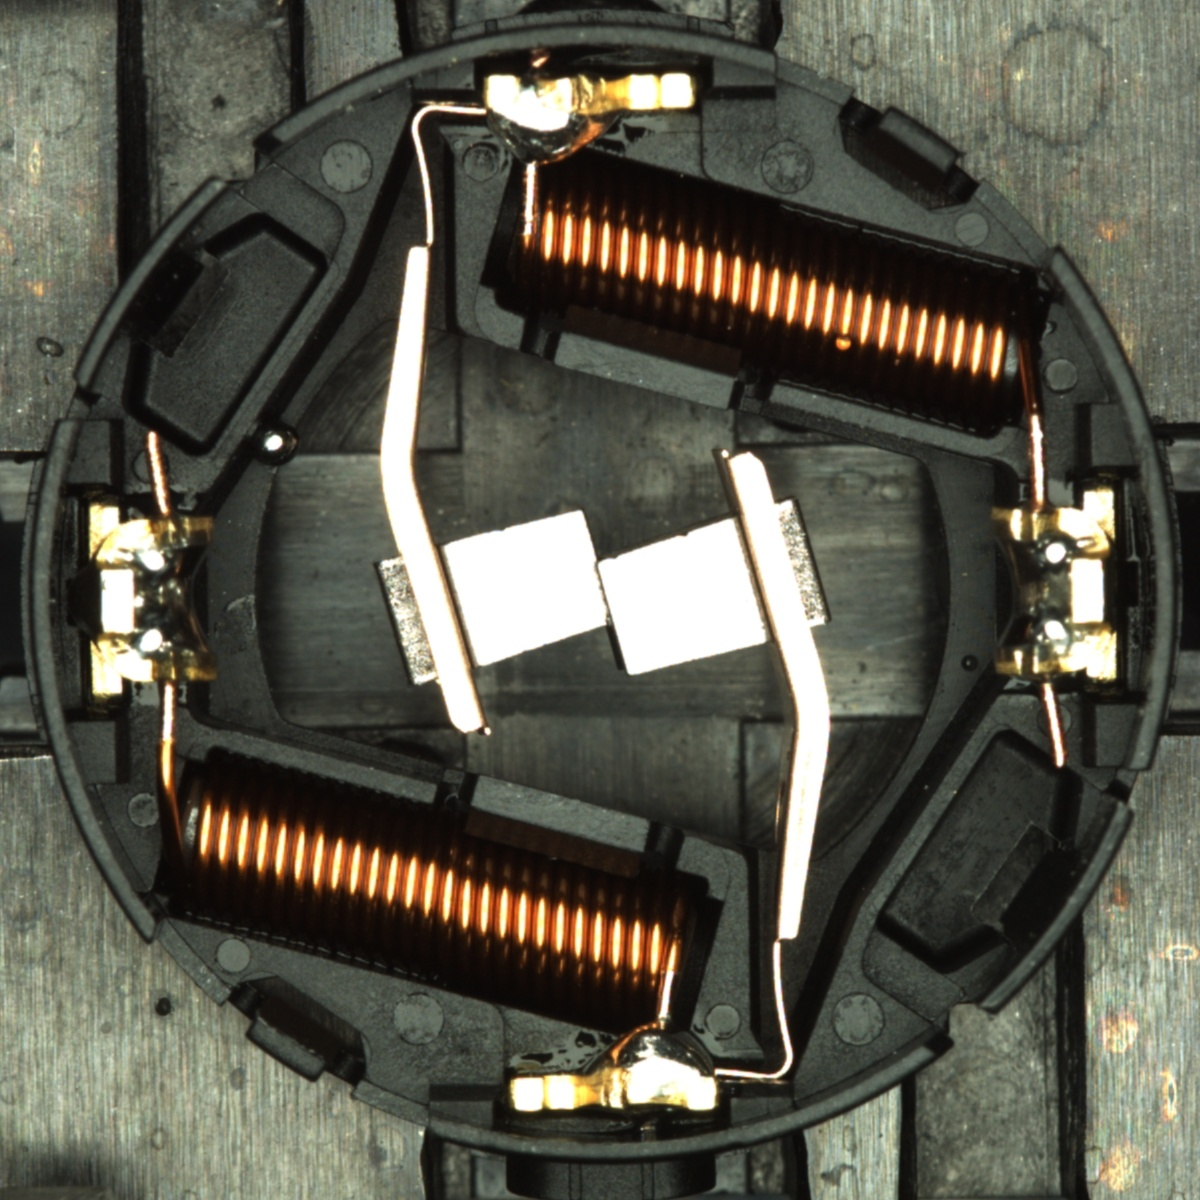1: (255, 31, 484, 255), (713, 929, 942, 1153)
2: (713, 31, 942, 255), (255, 929, 484, 1153)
3: (25, 255, 255, 480), (942, 704, 1173, 929)
4: (713, 704, 942, 929)
5: (484, 143, 713, 368), (484, 816, 713, 1041)
6: (713, 255, 942, 480), (255, 704, 484, 929)
7: (942, 255, 1173, 480), (25, 704, 255, 929)
cacbon: (395, 498, 803, 686)
chau_dien: (984, 487, 1124, 688), (81, 499, 221, 699)
hat_chi: (251, 419, 299, 467)
tay_choi: (481, 69, 700, 169), (508, 1018, 720, 1115)
thanh_de: (954, 787, 1141, 1030), (59, 164, 246, 405)
